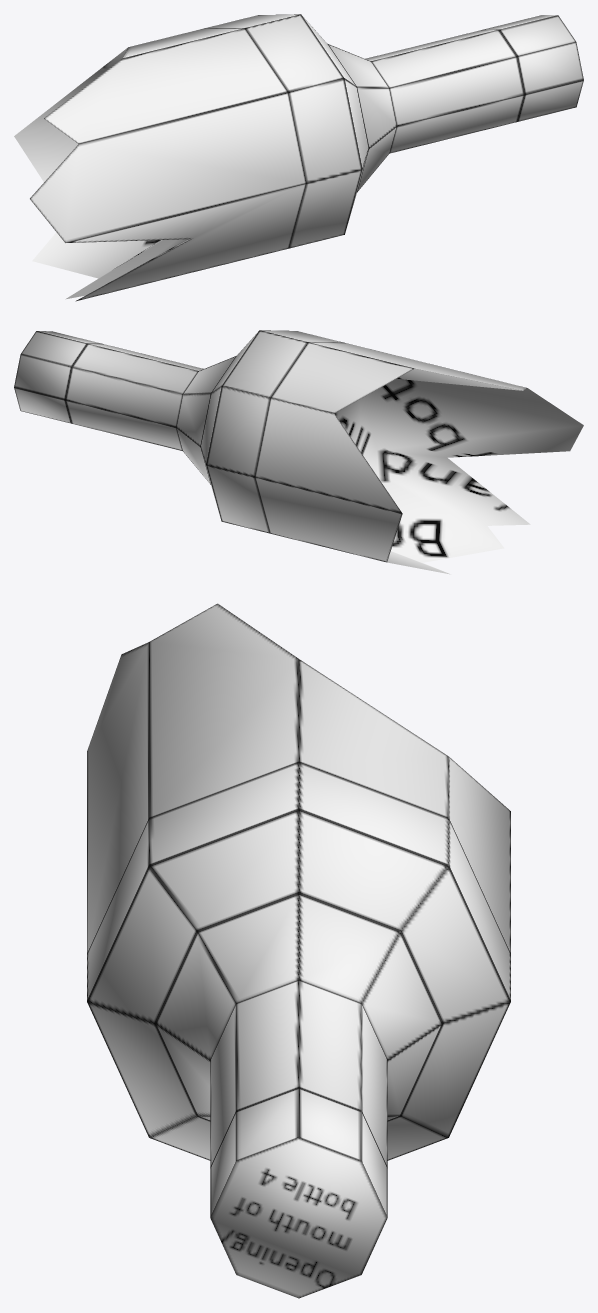
File: Bottle04_top.fbx
3 renders of one model, top to bottom at view 1: azimuth 30°, elevation 25°; view 2: azimuth 150°, elevation 25°; view 3: azimuth 270°, elevation 25°, orthographic. The views are drawn at different scales.
Parts seen in each view (by area): view 1: Bottle_04_top; view 2: Bottle_04_top; view 3: Bottle_04_top.
Boxes of the visible parts, bbox=[...] form: Bottle_04_top: bbox=[14, 14, 583, 301]; Bottle_04_top: bbox=[14, 330, 583, 574]; Bottle_04_top: bbox=[87, 603, 510, 1298].
Size of the model in its own units: 22.64 by 8.28 by 8.26.
1 material, 1 textured.
